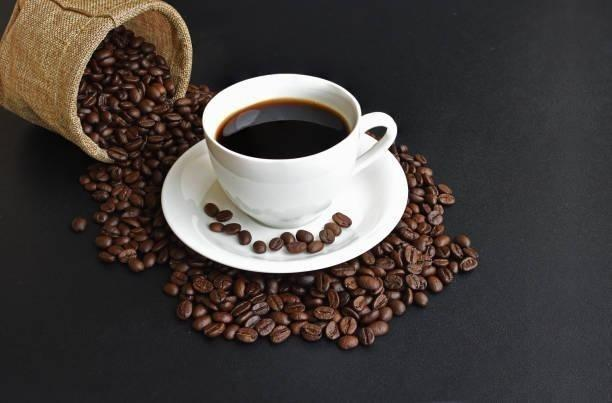cup-handle: (201, 71, 398, 228)
